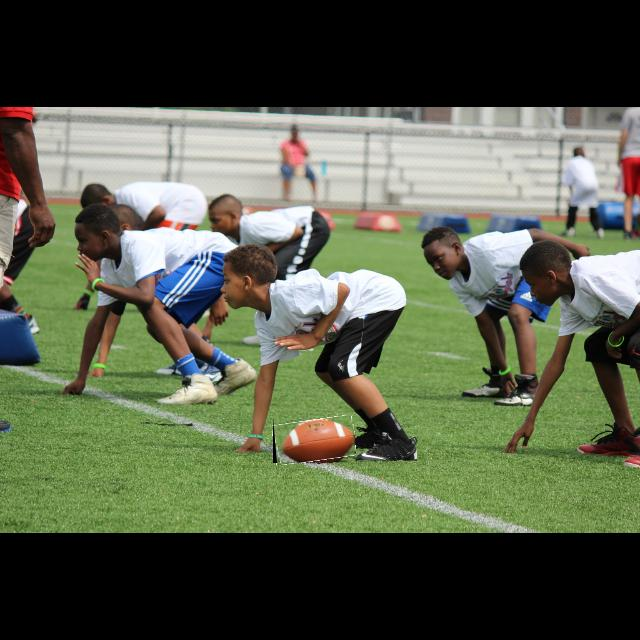Football: (273, 417, 355, 463)
